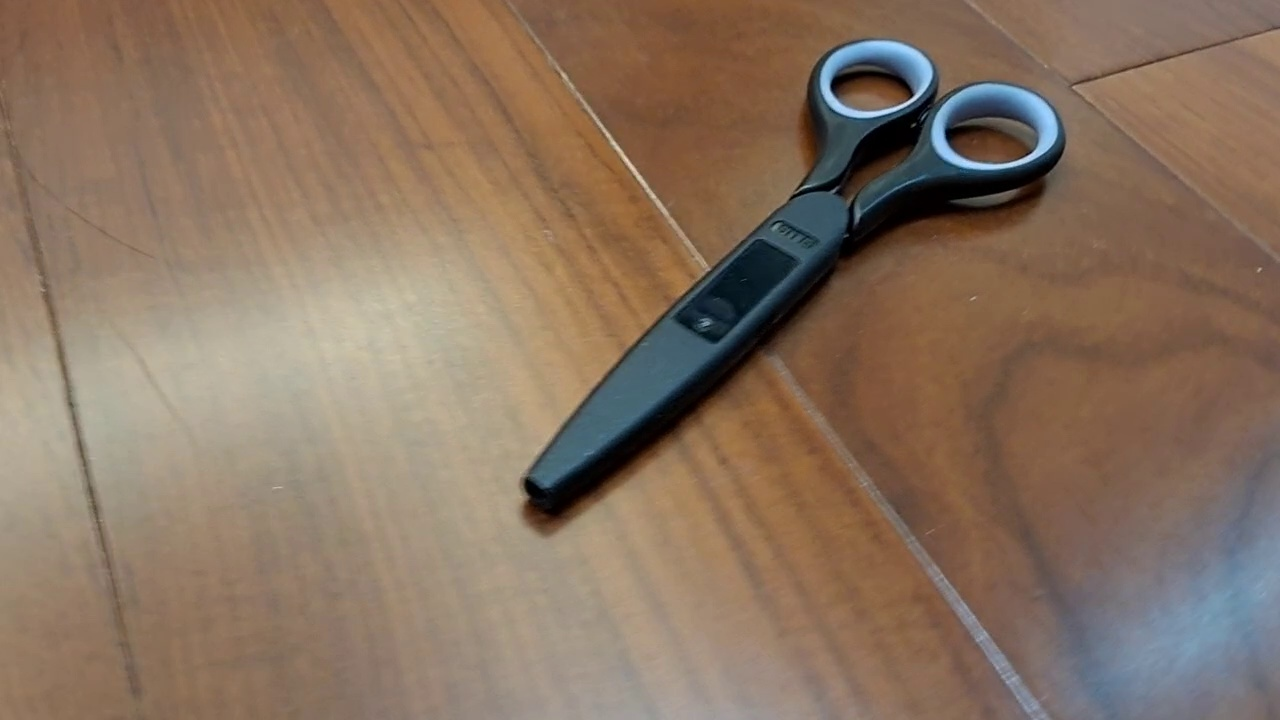scissors: (517, 36, 1068, 520)
